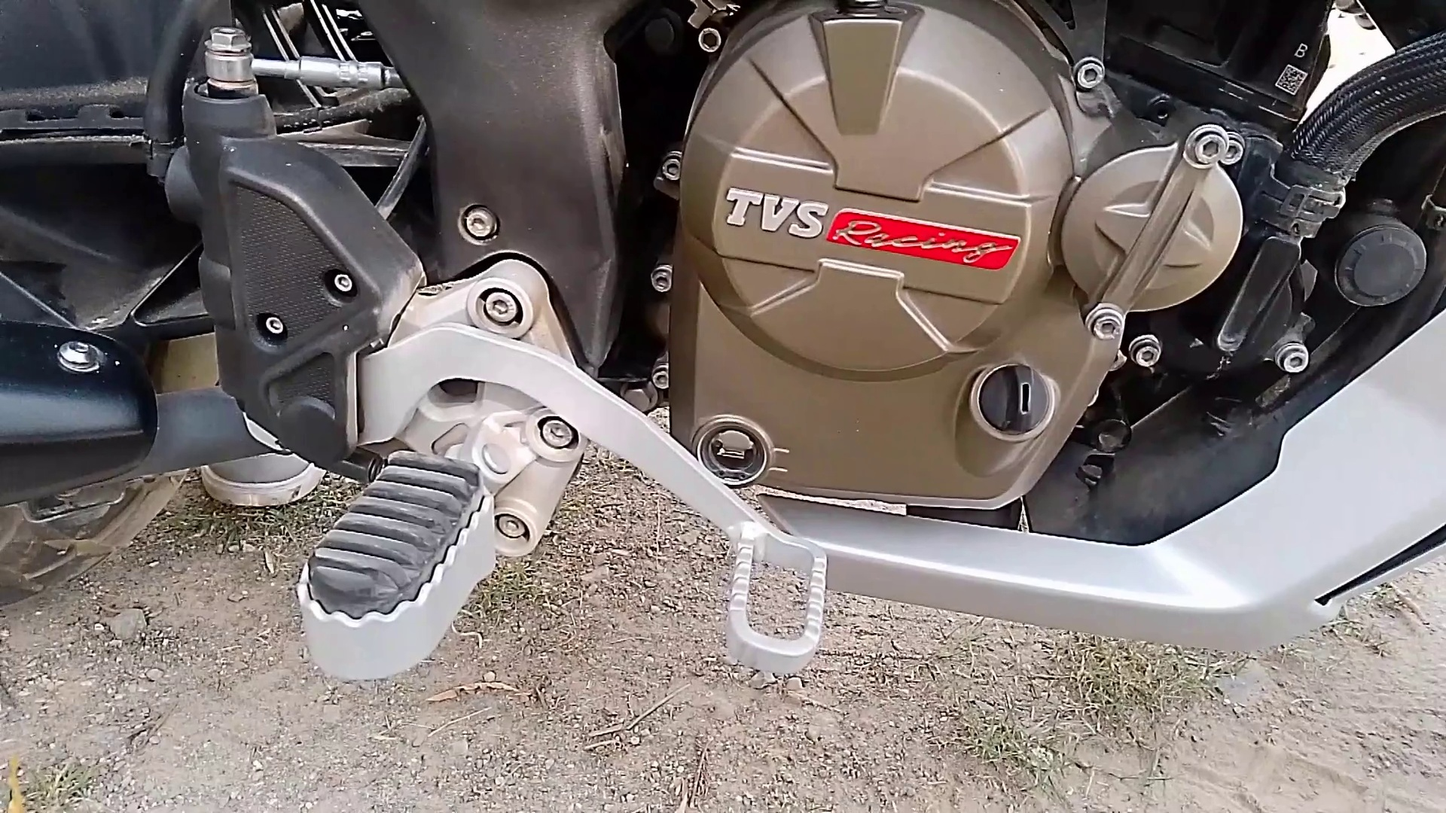bike-engine: (662, 0, 1247, 515)
bike-engine-level: (688, 411, 780, 493)
bike-oil-cap: (958, 350, 1065, 478)
